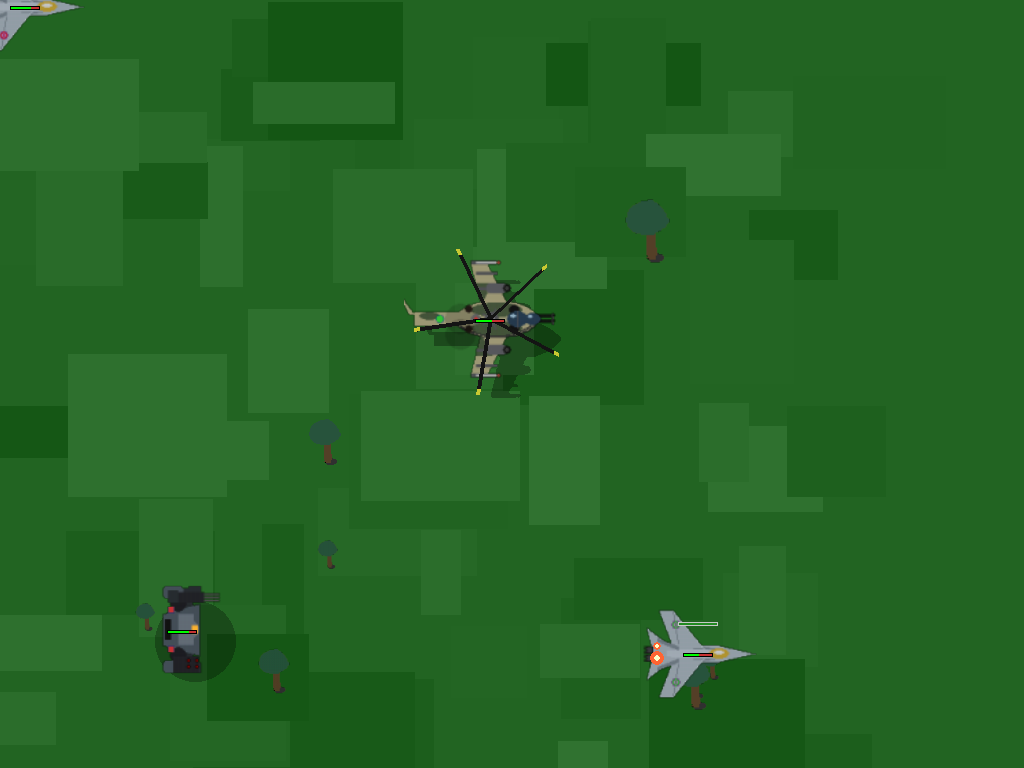FighterJet_chn: (0, 0, 52, 52), (671, 626, 723, 678)
HeavyMech: (152, 598, 213, 659)
Mi24: (448, 276, 531, 359)
